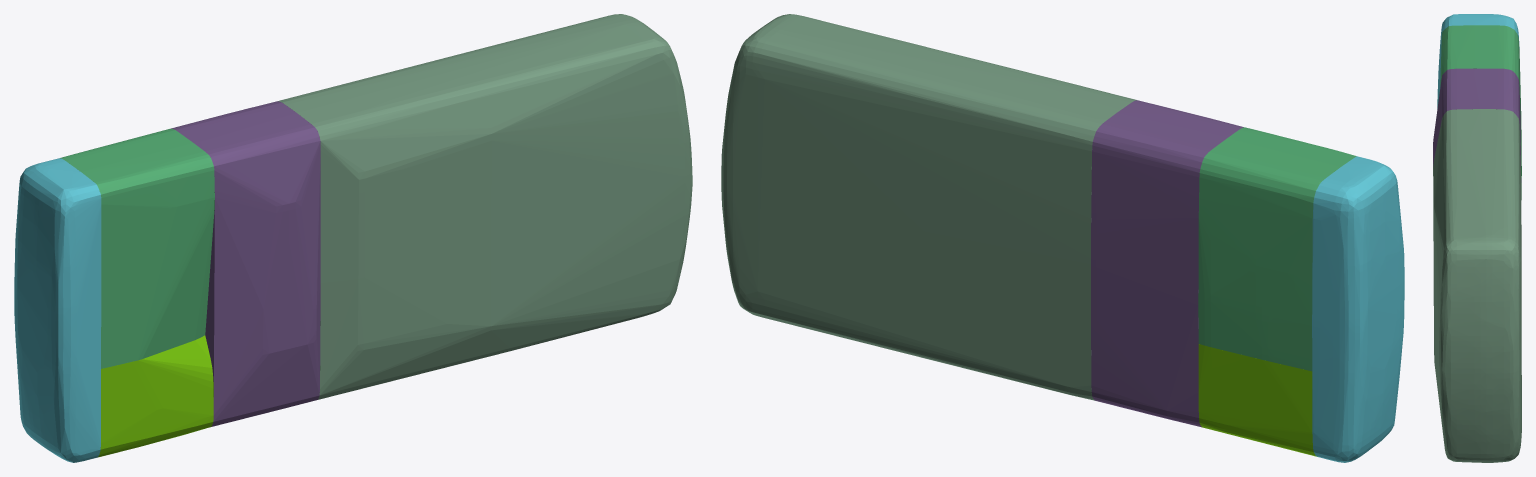
File: coacd_collision.obj
The picture shows the model from 3 angles, left to right: view 1: azimuth 30°, elevation 25°; view 2: azimuth 150°, elevation 25°; view 3: azimuth 270°, elevation 25°; orthographic projection. The views are drawn at different scales.
Parts seen in each view (by area): view 1: geometry_0, geometry_1, geometry_3, geometry_2, geometry_4; view 2: geometry_0, geometry_1, geometry_3, geometry_2, geometry_4; view 3: geometry_0, geometry_1, geometry_3, geometry_2.
Boxes of the visible parts, bbox=[...] form: geometry_0: bbox=[278, 14, 692, 399]; geometry_1: bbox=[171, 101, 320, 427]; geometry_3: bbox=[60, 128, 214, 368]; geometry_2: bbox=[14, 158, 101, 462]; geometry_4: bbox=[98, 335, 213, 457]; geometry_0: bbox=[721, 14, 1136, 400]; geometry_1: bbox=[1091, 100, 1243, 427]; geometry_3: bbox=[1198, 127, 1356, 371]; geometry_2: bbox=[1312, 156, 1404, 462]; geometry_4: bbox=[1198, 344, 1317, 456]; geometry_0: bbox=[1433, 109, 1521, 462]; geometry_1: bbox=[1433, 68, 1521, 182]; geometry_3: bbox=[1440, 25, 1521, 199]; geometry_2: bbox=[1437, 14, 1519, 108].
Size of the model in its own units: 136 by 57.4 by 20.38.
